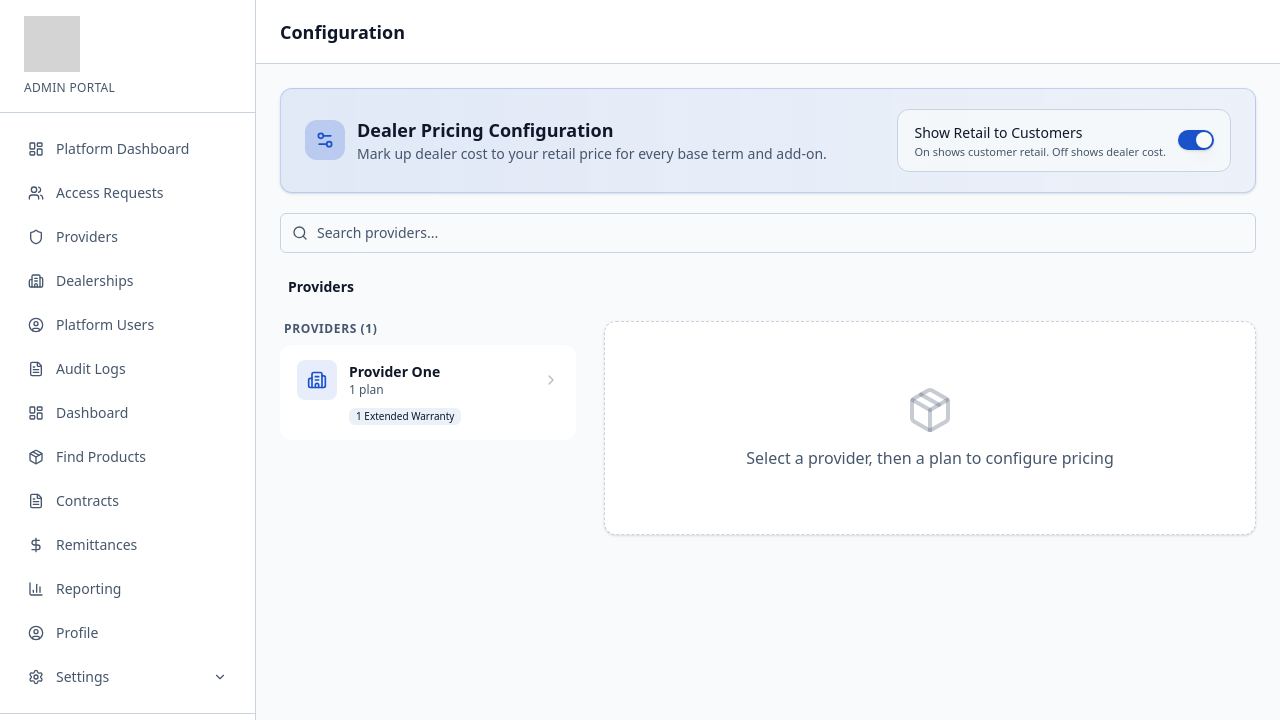
Test: dealer pricing recommendation display › allows the EasyDrive super admin account to edit dealer cost overrides
Step 1. Click the button "Provider One 1 plan 1 Extended Warranty" → (317, 380), box [280,344,576,440]
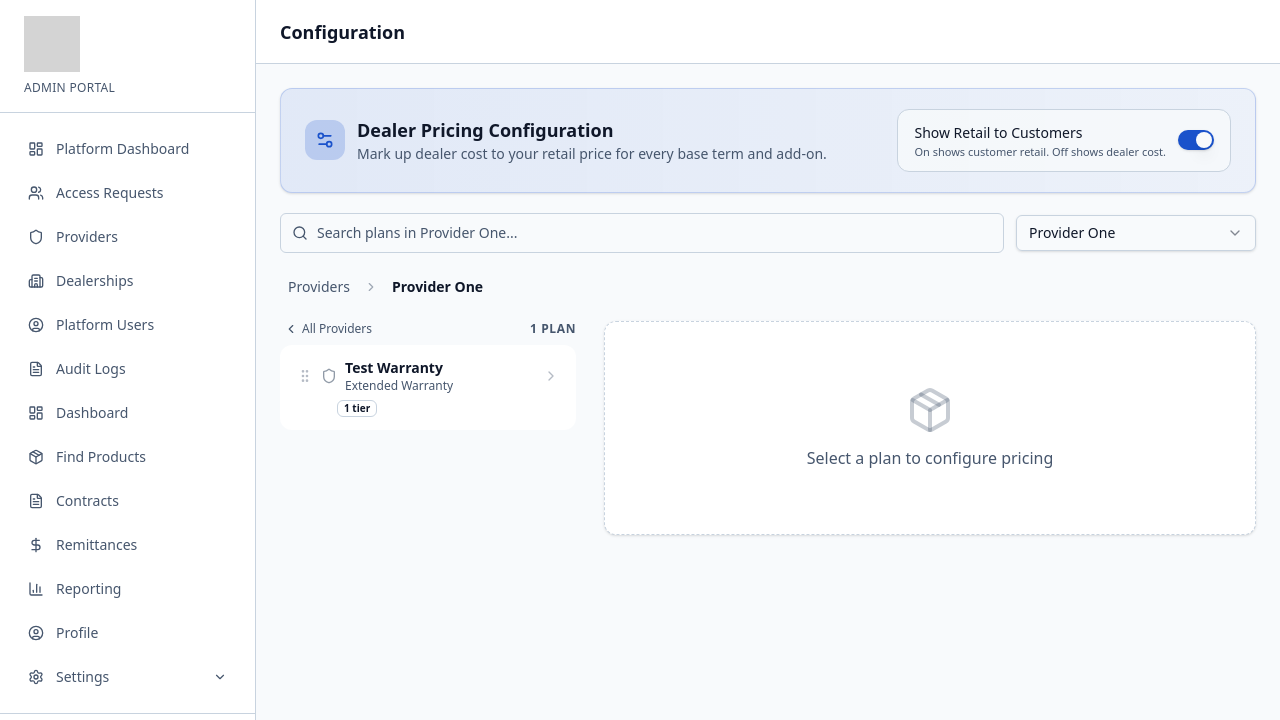
Step 2. Click the button "Test Warranty Extended Warranty 1 tier" → (428, 387), box [280,344,576,430]
(page scrolled)
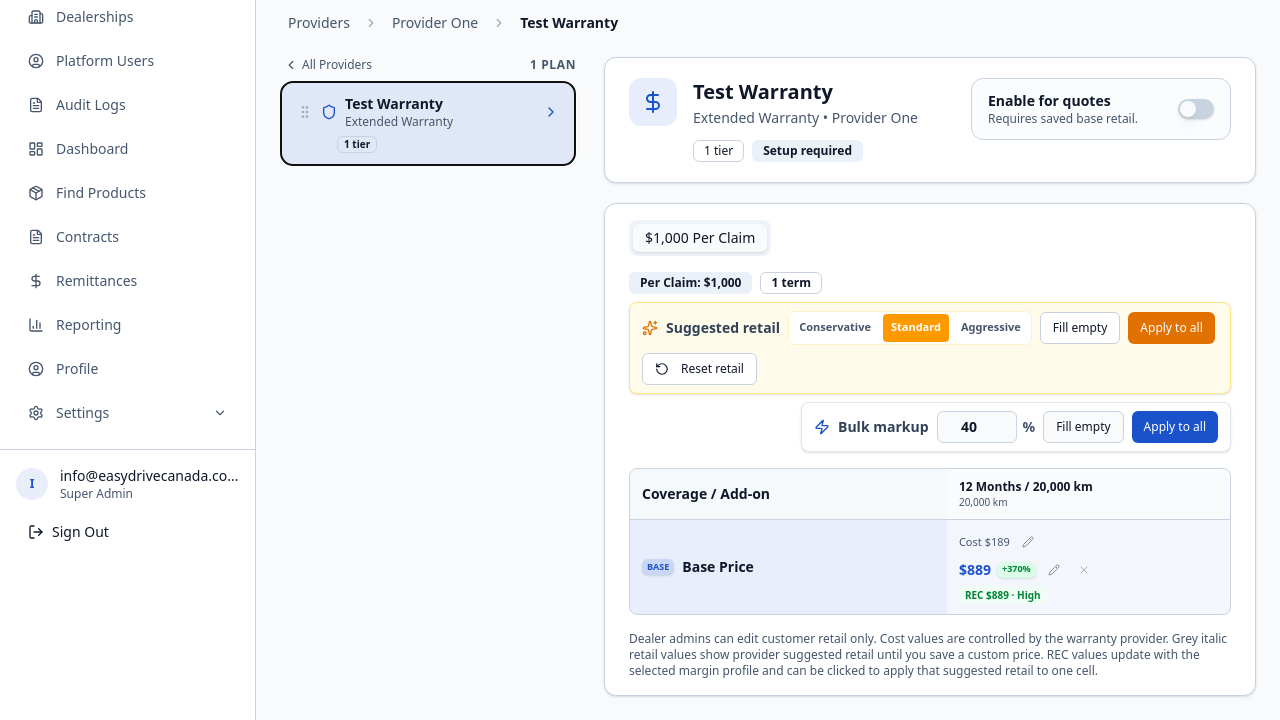
Step 3. Click the button titled "edit dealer cost" → (1028, 542), box [1016,530,1040,554]
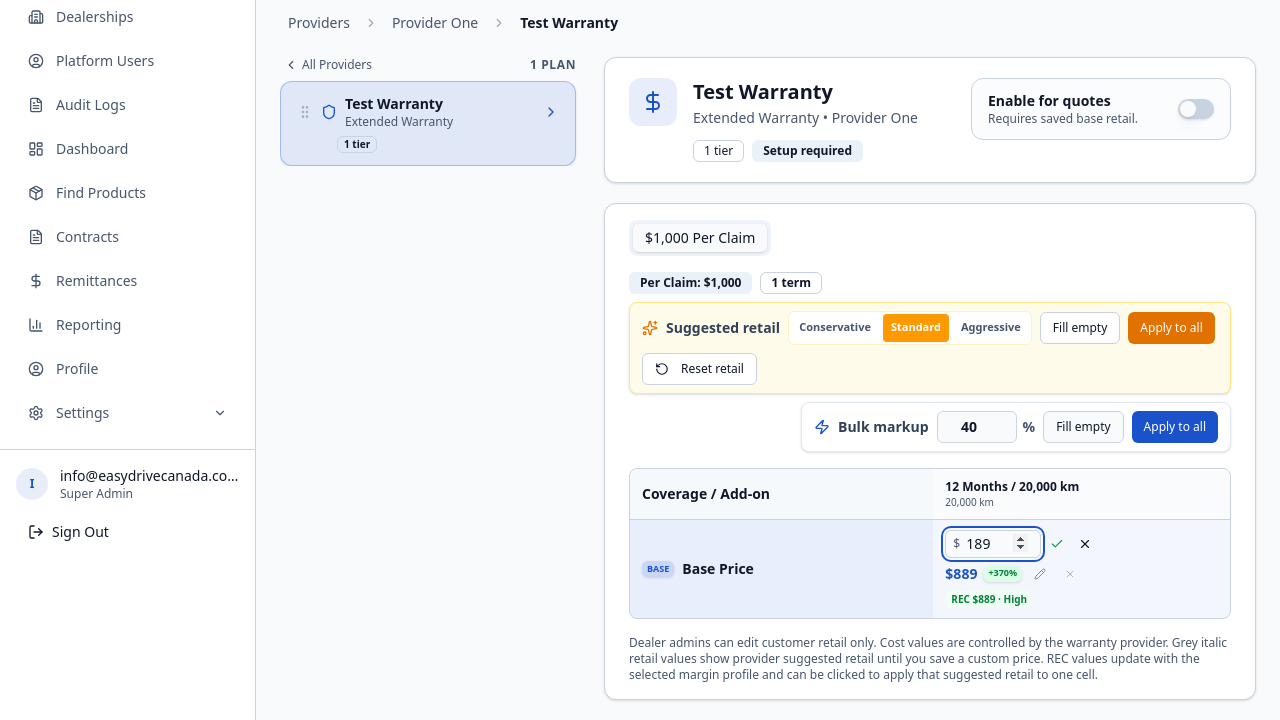
Step 4. Replace the text in the number field named "dealer cost" with "275" → (993, 544), box [945,530,1041,558]
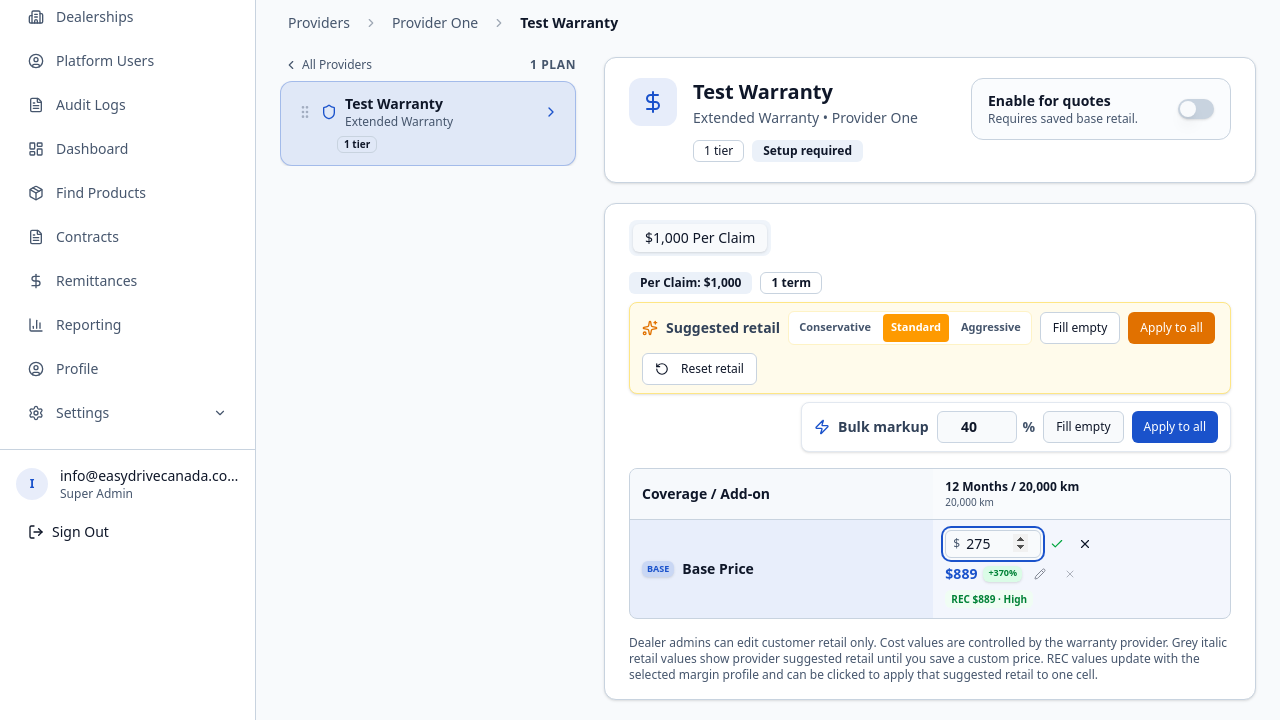
Step 5. Click the button named "save dealer cost" → (1057, 544), box [1045,532,1069,556]
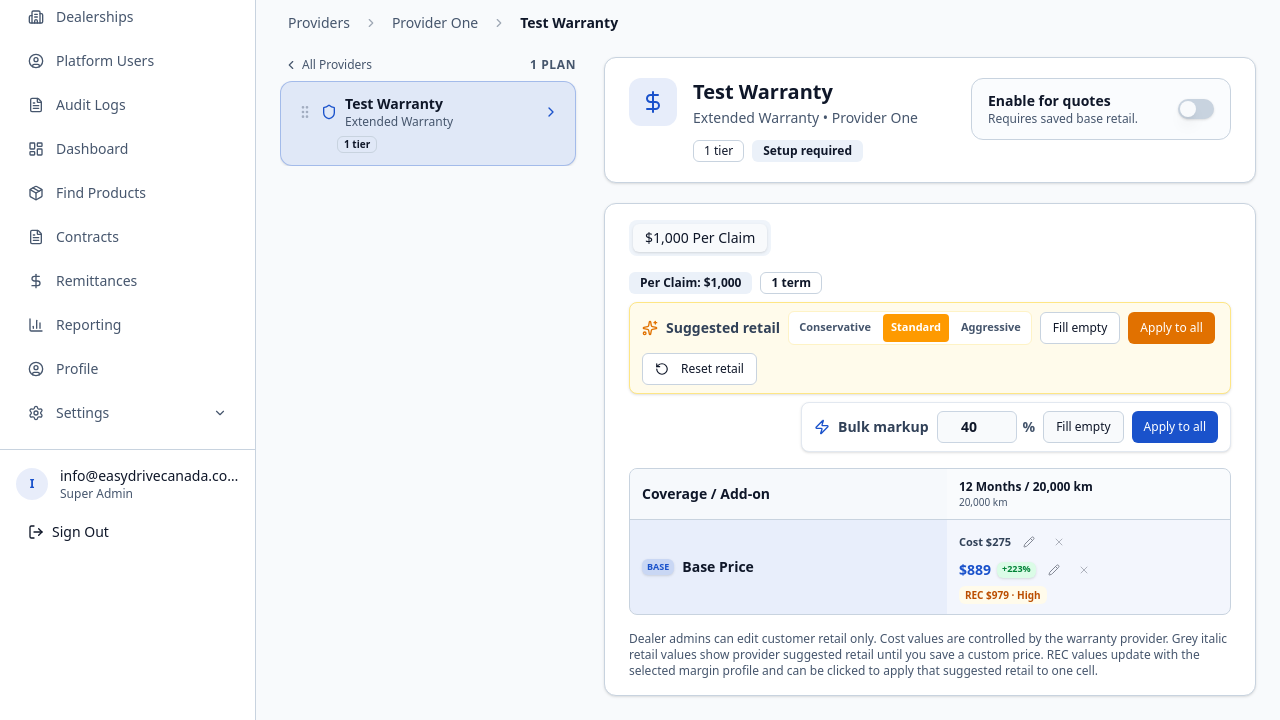
Now the text "Cost $275" is shown, box [959,534,1011,550]
